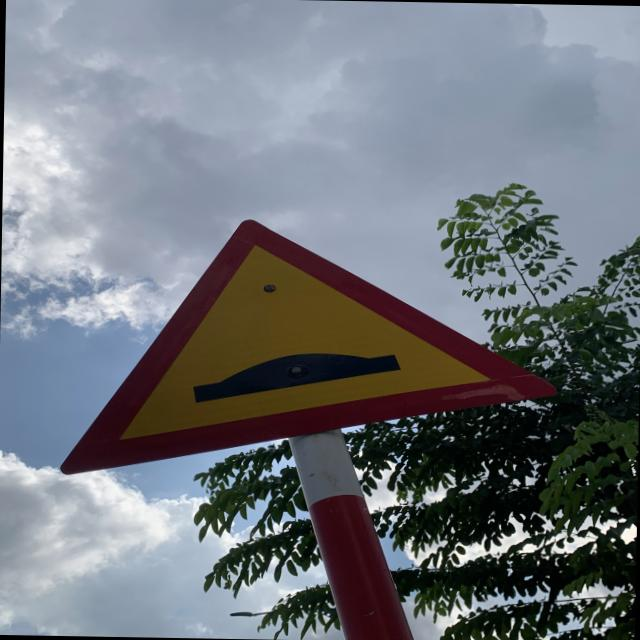Duong_Cong_Ben_Phai: (57, 215, 560, 491)
